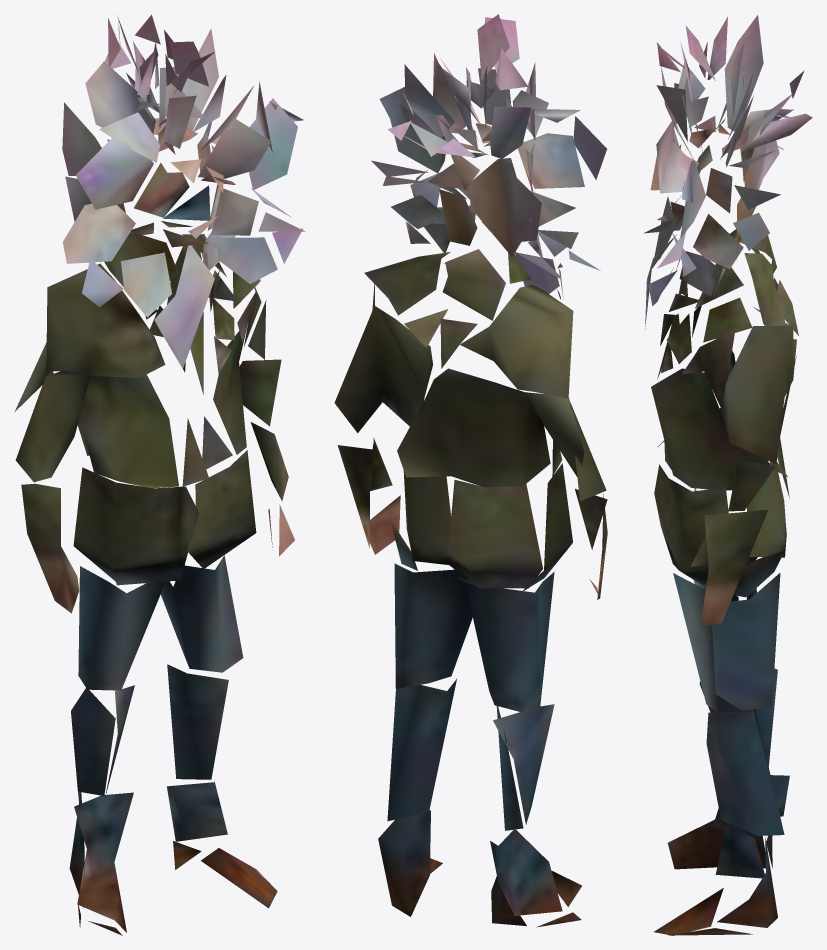
The model's file is cast_cabbie_far.glb.
3 views of the same model, side by side, from view 1: azimuth 30°, elevation 25°; view 2: azimuth 150°, elevation 25°; view 3: azimuth 270°, elevation 25° (orthographic).
Parts seen in each view (by area): view 1: tripo_node_a42e675f-a73e-45f9-b257-74cbc0c52e2a; view 2: tripo_node_a42e675f-a73e-45f9-b257-74cbc0c52e2a; view 3: tripo_node_a42e675f-a73e-45f9-b257-74cbc0c52e2a.
Part boxes in pixels (x1,y1,x2,y2): tripo_node_a42e675f-a73e-45f9-b257-74cbc0c52e2a: (14, 14, 305, 935); tripo_node_a42e675f-a73e-45f9-b257-74cbc0c52e2a: (334, 14, 607, 927); tripo_node_a42e675f-a73e-45f9-b257-74cbc0c52e2a: (644, 15, 812, 935).
Bounding box in the file's own units: 0.3035 × 0.9913 × 0.1719.
1 material, 1 textured.
